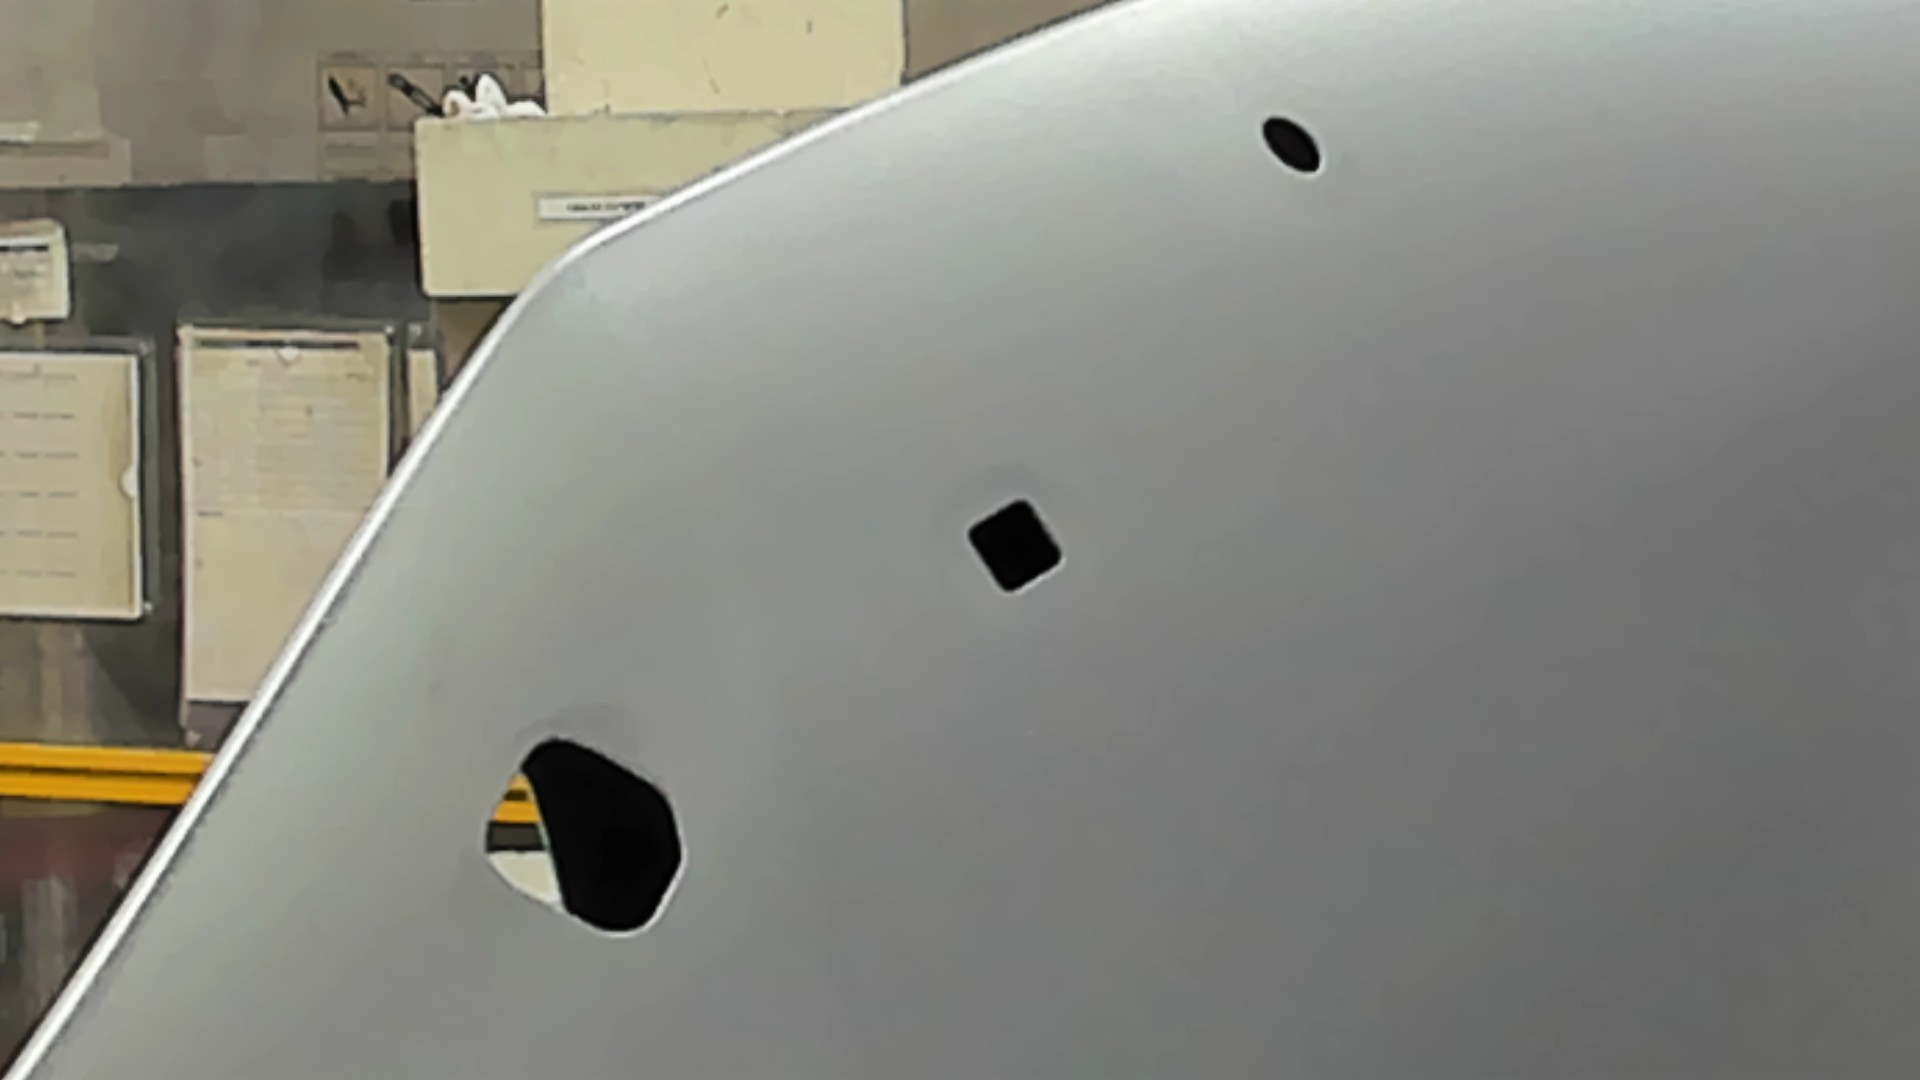capo: (1077, 185, 1920, 1080)
chico: (1261, 113, 1324, 179)
grande: (477, 732, 691, 942)
mediano: (961, 495, 1069, 597)
